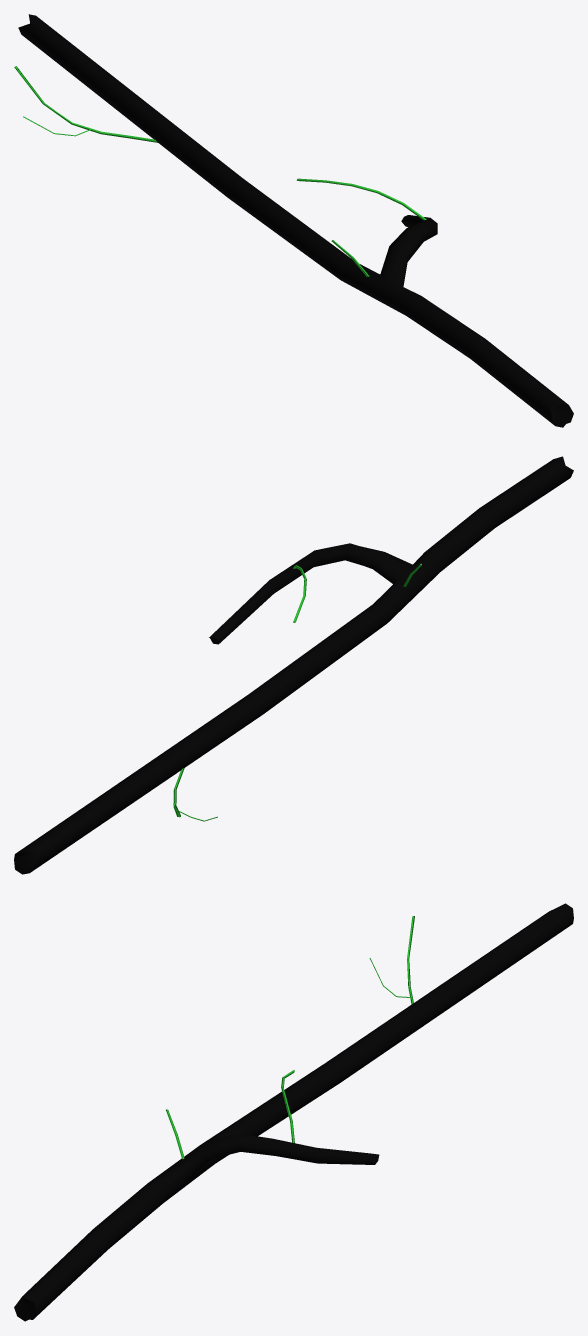
File: GrandeBranche.FBX
The picture shows the model from 3 angles, top to bottom: view 1: azimuth 30°, elevation 25°; view 2: azimuth 150°, elevation 25°; view 3: azimuth 330°, elevation 25°; orthographic projection.
Visible parts, largest first — view 1: branche001; view 2: branche001; view 3: branche001.
Boxes of the visible parts, <box> form: branche001: <box>14,14,573,427</box>; branche001: <box>14,456,573,874</box>; branche001: <box>14,903,573,1321</box>.
Size of the model in its own units: 39.76 by 14.21 by 184.
